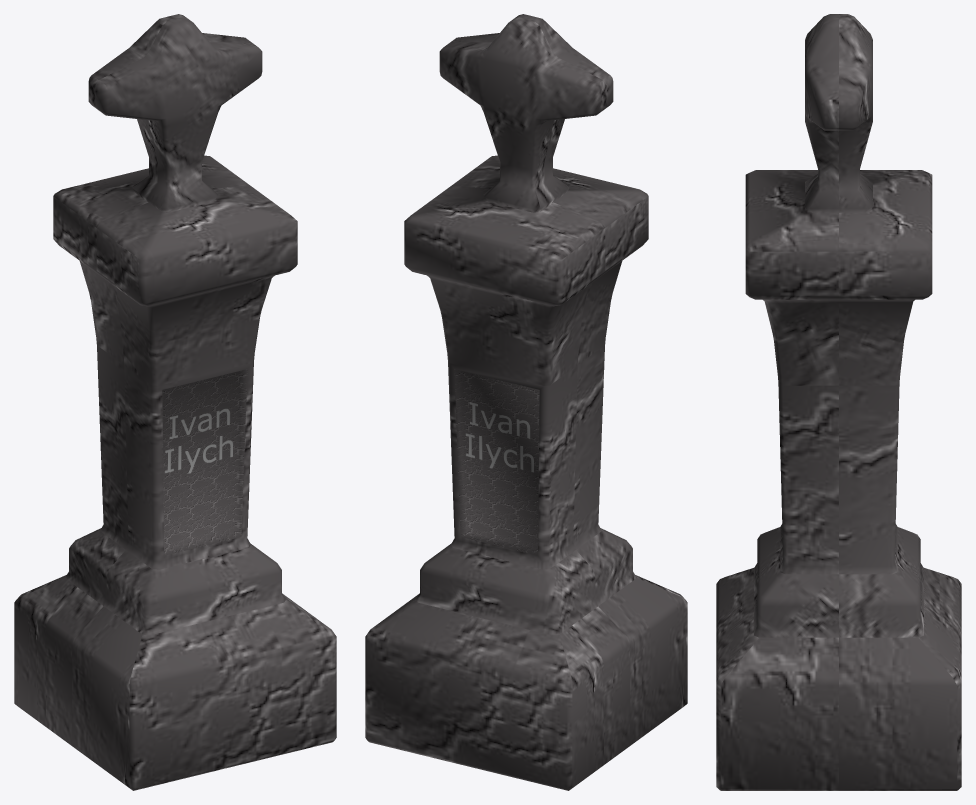
File: Gravestone 1.fbx
3 renders of one model, left to right at view 1: azimuth 30°, elevation 25°; view 2: azimuth 150°, elevation 25°; view 3: azimuth 270°, elevation 25°, orthographic. The views are drawn at different scales.
Visible parts, largest first — view 1: Cube; view 2: Cube; view 3: Cube.
Boxes of the visible parts, x1,y1,x2,y2 form: Cube: [14, 14, 336, 790]; Cube: [365, 14, 687, 790]; Cube: [716, 14, 961, 790].
Bounding box in the file's own units: 2 × 2 × 6.51.
1 material, 1 textured.
